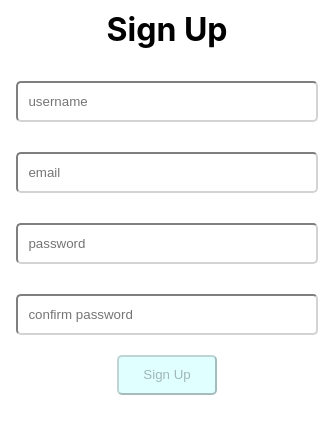
Test: Sign Up Page › form validation › username validation
The width and height of the screenshot is (335, 427).
In the field with placeholder "email": (167, 172) [16,152,318,193], type "max@test.com"
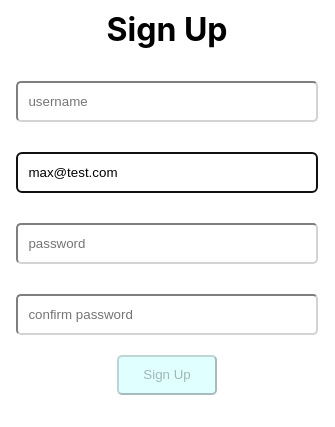
In the password field with placeholder "password": (167, 243) [16,223,318,264], type "Password"
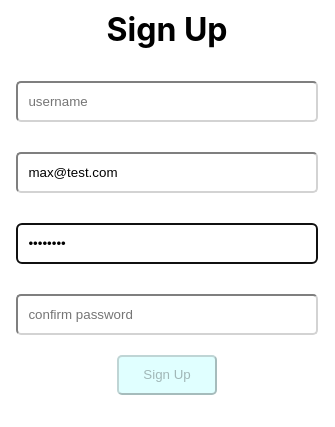
In the password field with placeholder "confirm password": (167, 314) [16,294,318,335], type "Password"
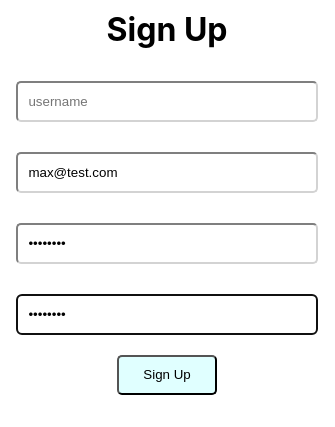
Click the button "Sign Up": click(167, 375) [117,355,217,395]
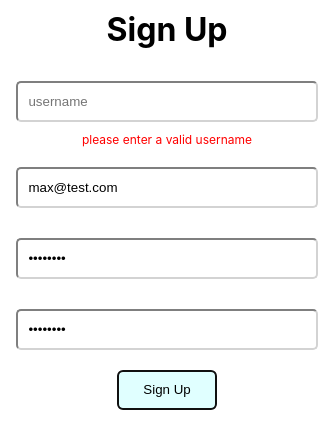
Expected: the text "please enter a valid username" is shown, [82,132,252,157]
